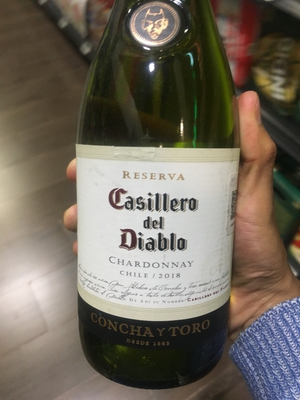casillero del diablo chardonnay: (76, 18, 241, 384)
